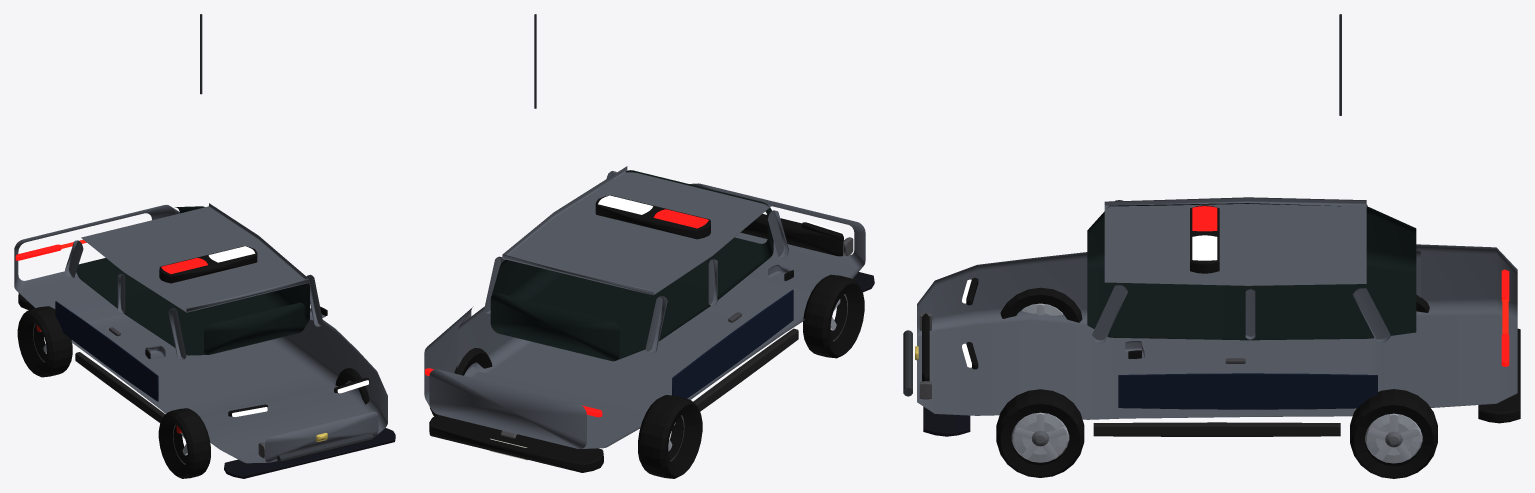
The model's file is police_car.glb.
3 views of the same model, side by side, from view 1: azimuth 30°, elevation 25°; view 2: azimuth 150°, elevation 25°; view 3: azimuth 270°, elevation 25° (orthographic). The views are drawn at different scales.
Parts seen in each view (by area): view 1: root, wheelRL, wheelFL, siren, wheelFR; view 2: root, wheelRL, wheelFL, siren, wheelRR; view 3: root, wheelRR, wheelFR, siren, wheelFL.
Part boxes in pixels (box(x1,y1,x2,y2)): root: box(14, 203, 395, 478); wheelRL: box(17, 306, 72, 377); wheelFL: box(158, 408, 210, 478); siren: box(159, 14, 257, 283); wheelFR: box(335, 368, 369, 404); root: box(424, 166, 874, 472); wheelRL: box(638, 395, 702, 478); wheelFL: box(803, 274, 864, 358); siren: box(534, 14, 710, 239); wheelRR: box(430, 348, 492, 416); root: box(903, 197, 1520, 436); wheelRR: box(1350, 389, 1437, 478); wheelFR: box(996, 389, 1084, 477); siren: box(1190, 14, 1341, 273); wheelFL: box(1000, 287, 1082, 322).
Size of the model in its own units: 2.38 by 3.87 by 4.99.
